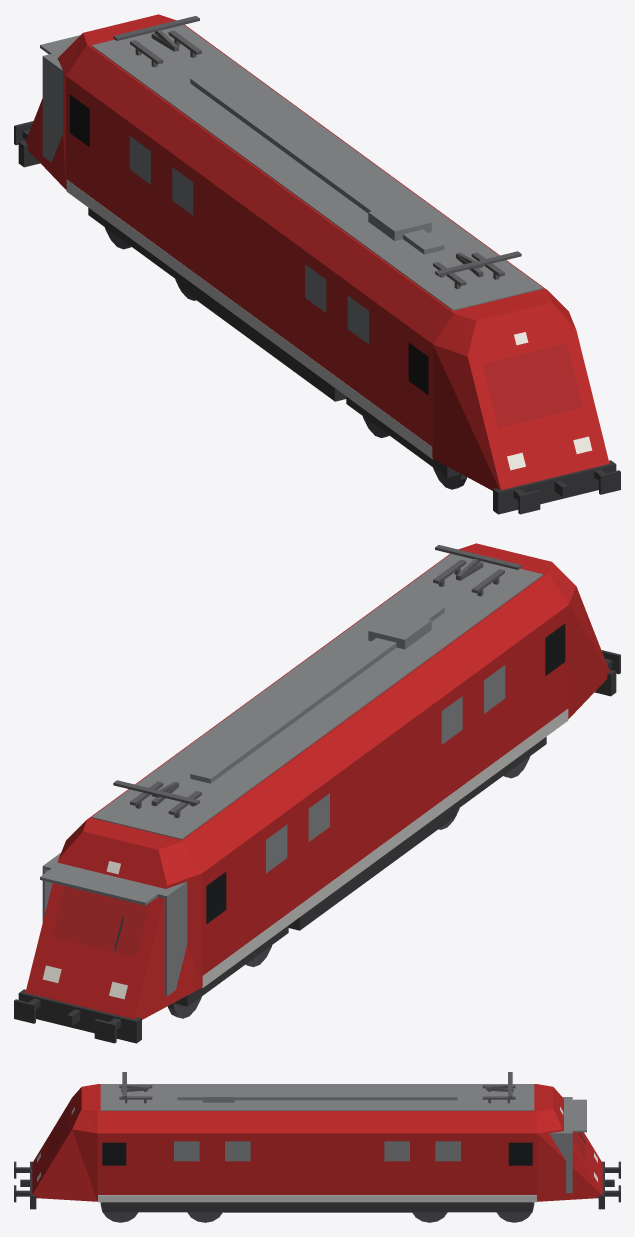
3 renders of one model, top to bottom at view 1: azimuth 30°, elevation 25°; view 2: azimuth 150°, elevation 25°; view 3: azimuth 270°, elevation 25°, orthographic. The views are drawn at different scales.
Parts seen in each view (by area): view 1: body_LOD0, cab_LOD0, pant_front, pant_rear; view 2: body_LOD0, cab_LOD0, pant_rear, pant_front; view 3: body_LOD0, cab_LOD0, pant_front, pant_rear.
Part boxes in pixels (left/top/right/bottom): body_LOD0: left=14, top=14, right=620, bottom=514; cab_LOD0: left=40, top=35, right=80, bottom=162; pant_front: left=113, top=16, right=201, bottom=67; pant_rear: left=433, top=251, right=521, bottom=289; body_LOD0: left=14, top=543, right=620, bottom=1043; cab_LOD0: left=40, top=853, right=187, bottom=996; pant_rear: left=433, top=545, right=521, bottom=596; pant_front: left=113, top=780, right=201, bottom=818; body_LOD0: left=14, top=1084, right=620, bottom=1222; cab_LOD0: left=549, top=1097, right=586, bottom=1193; pant_front: left=482, top=1072, right=515, bottom=1103; pant_rear: left=119, top=1072, right=152, bottom=1103.
Size of what is drawn, in the model's own units: 2.97 by 4.43 by 19.04.
